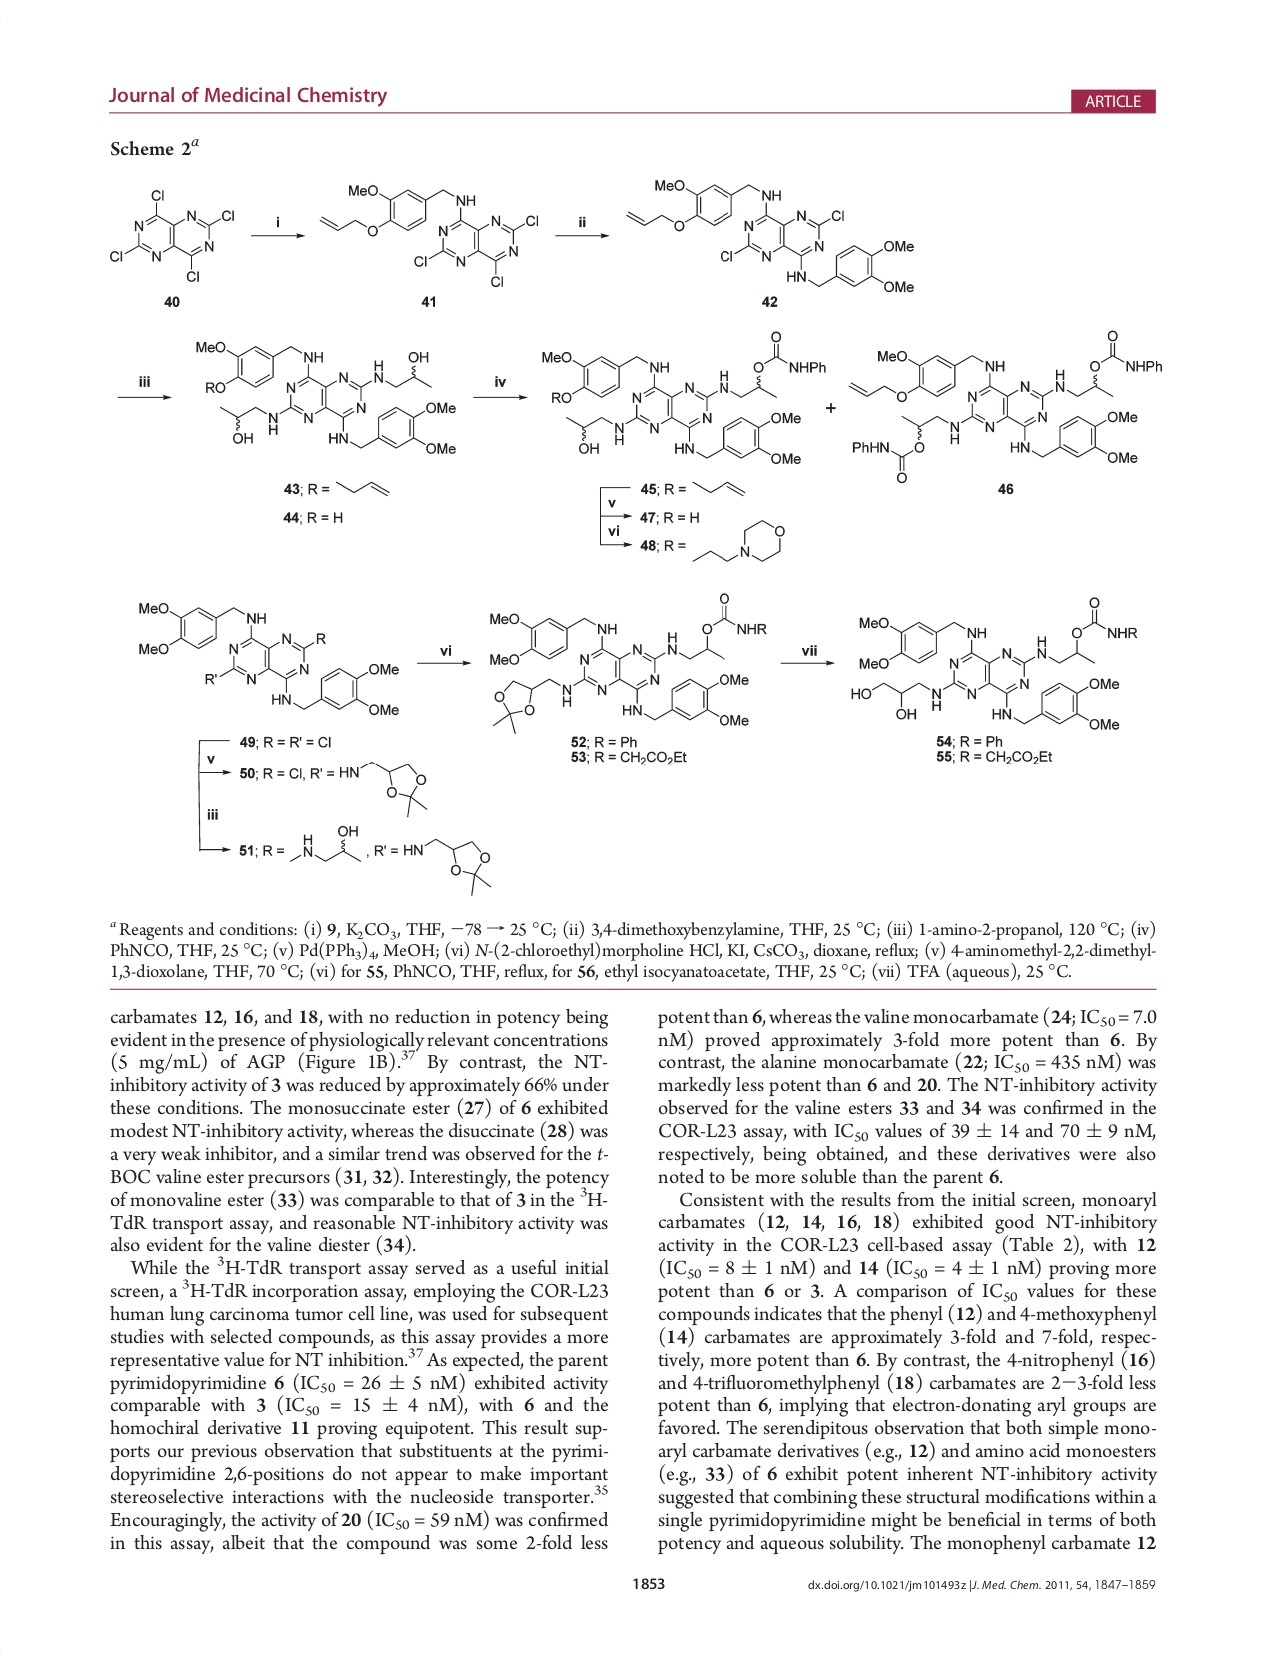exist_molecular: (844, 326, 1165, 485), (535, 327, 828, 472), (481, 590, 767, 733), (848, 596, 1140, 733), (622, 172, 916, 297), (125, 592, 403, 722), (189, 334, 461, 461), (311, 178, 543, 291), (105, 181, 239, 285), (336, 757, 432, 822), (403, 834, 497, 898), (688, 517, 789, 571), (286, 822, 364, 870), (332, 469, 392, 505), (690, 475, 747, 505)
